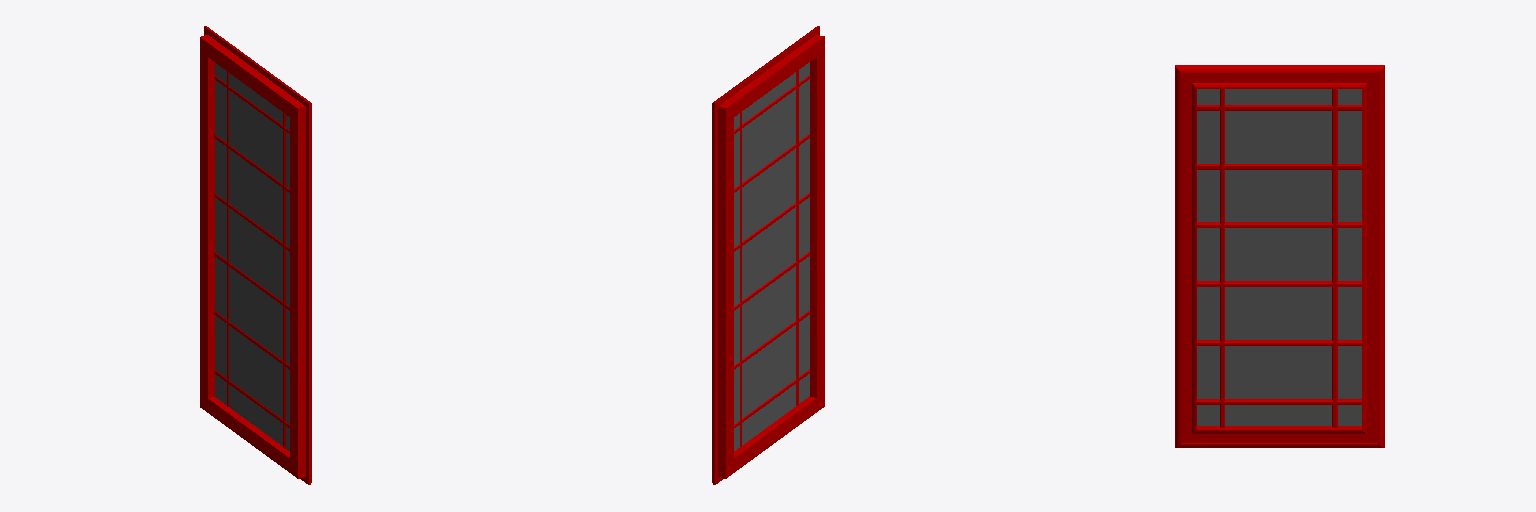
File: phoneBoothDoor.obj
The picture shows the model from 3 angles: view 1: azimuth 30°, elevation 25°; view 2: azimuth 150°, elevation 25°; view 3: azimuth 270°, elevation 25°; orthographic projection.
Parts seen in each view (by area): view 1: Plane07_Untitled.009, Rectangle10_Untitled.021, Box12_Untitled.010; view 2: Plane07_Untitled.009, Rectangle10_Untitled.021, Box12_Untitled.010; view 3: Plane07_Untitled.009, Rectangle10_Untitled.021, Box12_Untitled.010.
Boxes of the visible parts, <box> form: Plane07_Untitled.009: <box>215,63,289,450</box>; Rectangle10_Untitled.021: <box>200,26,311,484</box>; Box12_Untitled.010: <box>214,49,289,448</box>; Plane07_Untitled.009: <box>734,62,809,450</box>; Rectangle10_Untitled.021: <box>712,26,824,484</box>; Box12_Untitled.010: <box>734,48,809,446</box>; Plane07_Untitled.009: <box>1197,89,1361,425</box>; Rectangle10_Untitled.021: <box>1175,65,1384,447</box>; Box12_Untitled.010: <box>1197,89,1361,427</box>.
Size of the model in its own units: 0.1155 by 2.91 by 1.45.